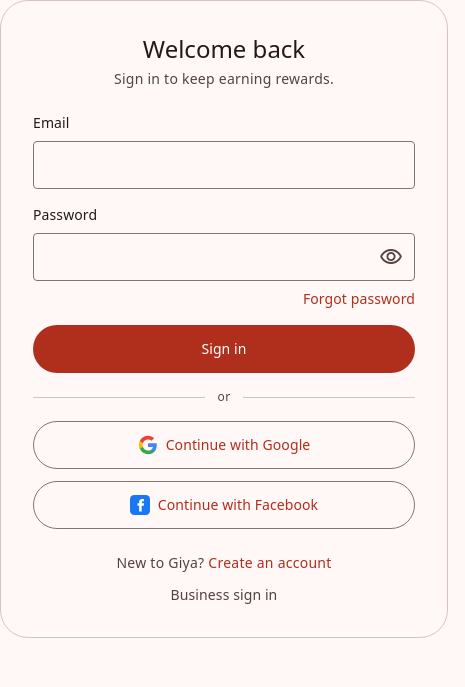
it: password sign-in registers the device › CRITICAL: registers nothing when the credentials were refused
Type "ana@example.com" into the field labelled "Email" at [224, 165], box [33, 141, 415, 189]
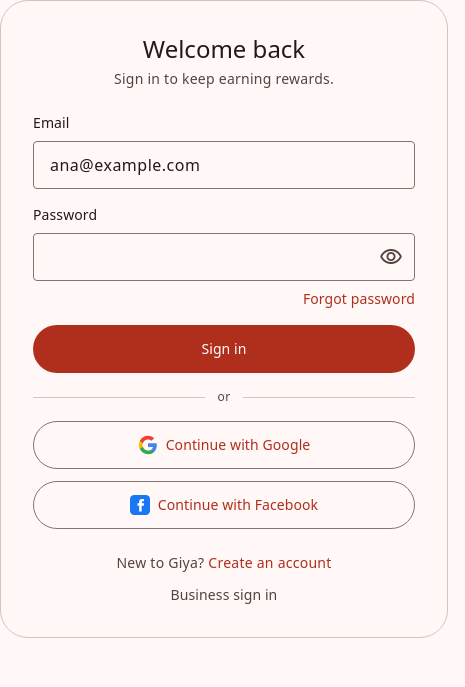
Type "hunter2hunter2" into the password field labelled "Password" at [224, 257], box [33, 233, 415, 281]
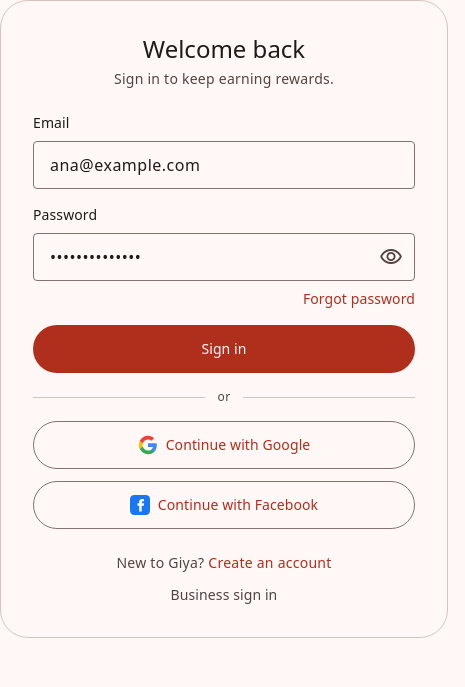
Click the button "Sign in" at [224, 349], box [33, 325, 415, 373]
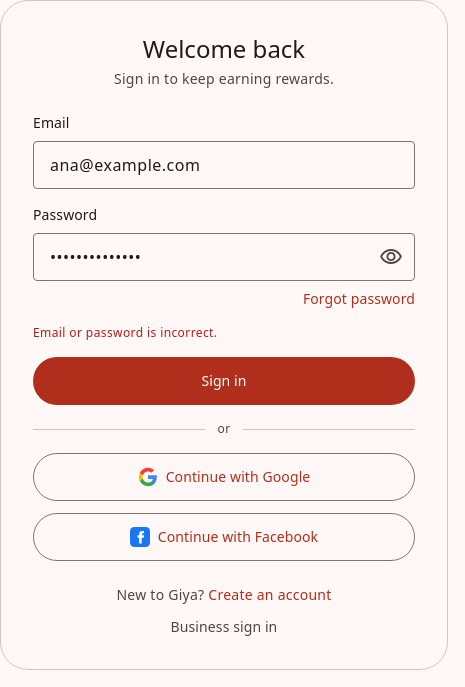
Now the message "Email or password is incorrect." is shown, box [33, 324, 217, 341]
